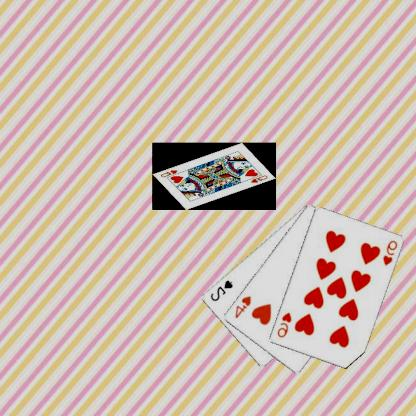2S: (209, 277, 236, 303)
4H: (233, 293, 254, 320)
9H: (276, 309, 295, 339), (382, 237, 400, 267)
